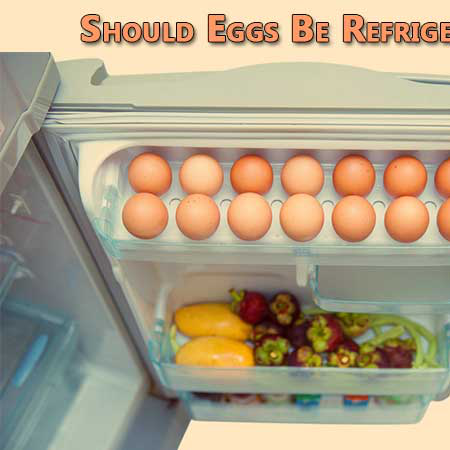egg: (117, 152, 450, 243)
